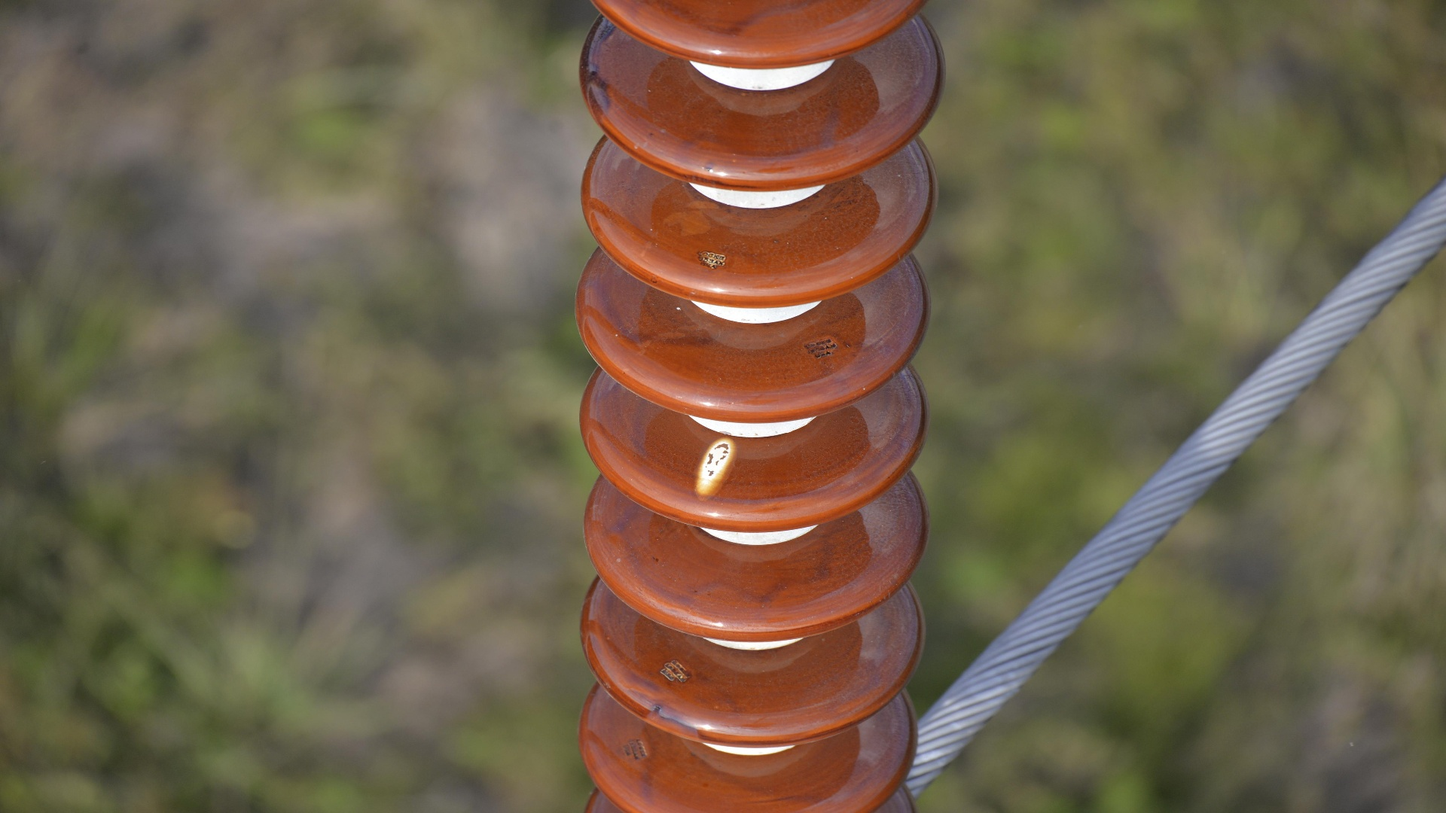insulator: (572, 1, 949, 813)
